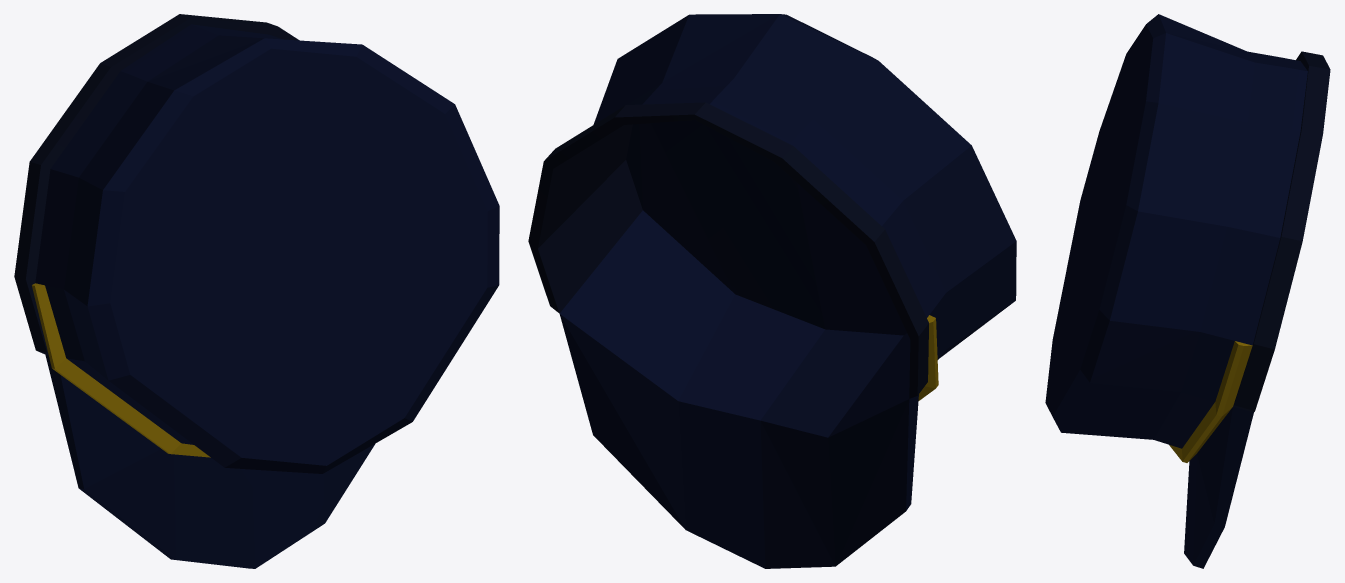
File: LighthouseHat.glb
The picture shows the model from 3 angles, left to right: view 1: azimuth 30°, elevation 25°; view 2: azimuth 150°, elevation 25°; view 3: azimuth 270°, elevation 25°; orthographic projection. The views are drawn at different scales.
Visible parts, largest first — view 1: LighthouseHat; view 2: LighthouseHat; view 3: LighthouseHat.
Part boxes in pixels (<box>): LighthouseHat: <box>14,14,499,568</box>; LighthouseHat: <box>528,14,1016,568</box>; LighthouseHat: <box>1045,14,1330,568</box>.
Size of the model in its own units: 0.211 by 0.2647 by 0.1305.
1 material, 1 textured.
